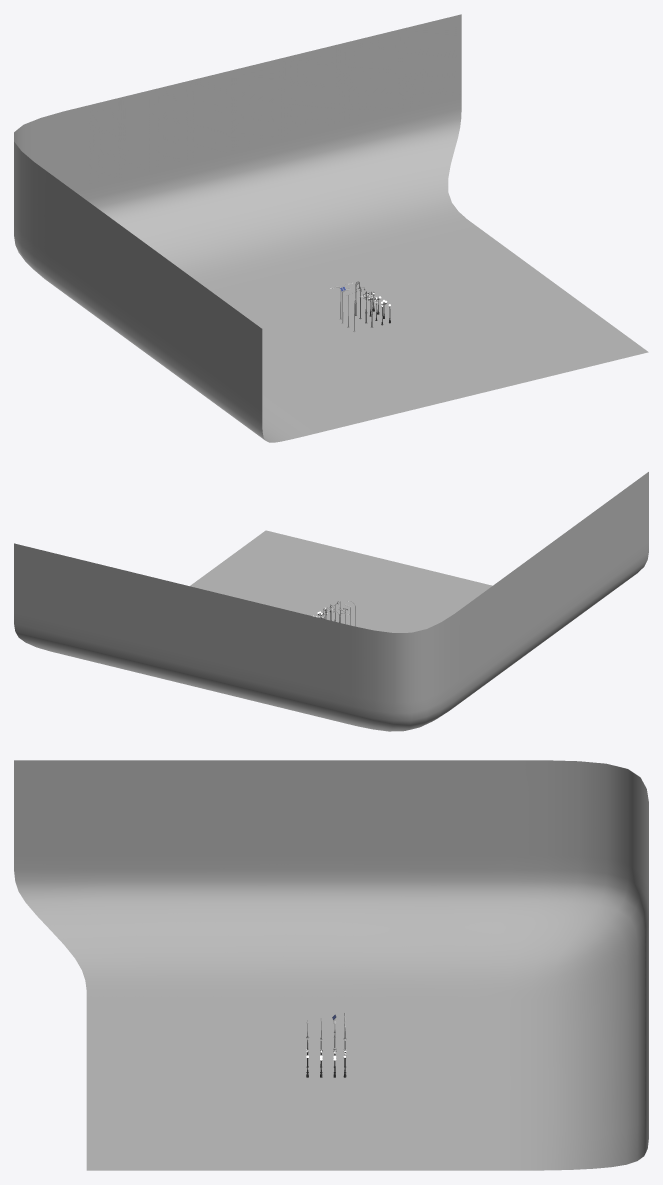
Rendered from 16-low-poly-street-lights.quads.fbx.
The picture shows the model from 3 angles, top to bottom: view 1: azimuth 30°, elevation 25°; view 2: azimuth 150°, elevation 25°; view 3: azimuth 270°, elevation 25°; orthographic projection. The views are drawn at different scales.
Parts seen in each view (by area): view 1: floor_lambert1_0; view 2: floor_lambert1_0; view 3: floor_lambert1_0.
Boxes of the visible parts, x1,y1,x2,y2 form: floor_lambert1_0: (14,14,648,442); floor_lambert1_0: (14,472,648,731); floor_lambert1_0: (14,760,648,1170).
Bounding box in the file's own units: 932058 × 280688 × 932058.
Materials: 3 (2 with a texture image).
